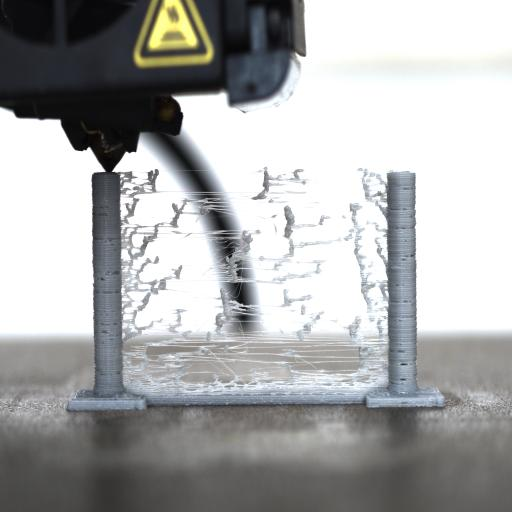stringing: (122, 168, 389, 390)
